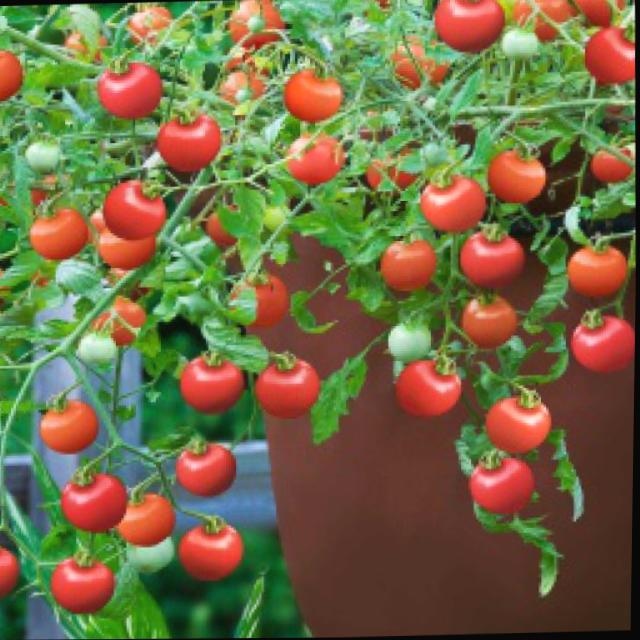tomato: (179, 510, 249, 586), (61, 465, 133, 537), (393, 352, 468, 421), (256, 351, 325, 422), (417, 172, 492, 236), (154, 113, 226, 179), (460, 231, 532, 297), (568, 308, 635, 377), (486, 393, 556, 459), (102, 179, 171, 245), (178, 353, 247, 419), (468, 450, 538, 515), (430, 0, 509, 57), (94, 62, 166, 123), (49, 558, 121, 619), (174, 435, 240, 501), (37, 400, 113, 456), (565, 245, 630, 310), (282, 62, 348, 126), (116, 491, 181, 553), (458, 291, 523, 352), (377, 240, 439, 302), (30, 205, 94, 265), (488, 150, 551, 207), (590, 148, 633, 187)
